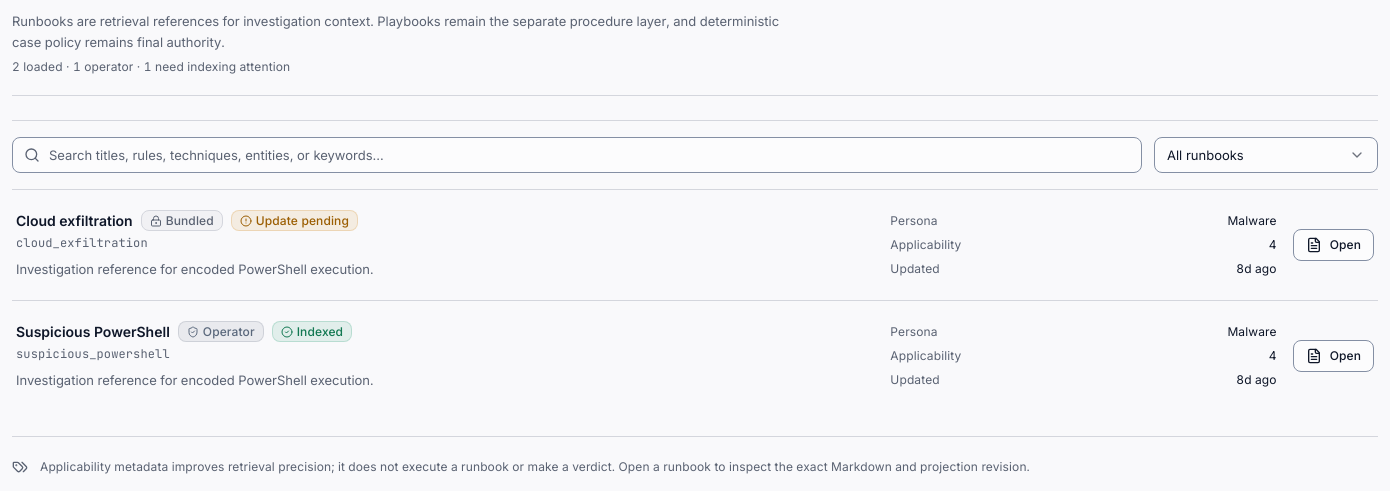
Test: Intelligence Runbooks management › supports search/index filtering and hides every mutation without runbooks:manage
Expected: the text "Cloud exfiltration" is shown, [16,212,133,229]
Type "cloud" into the field named "search runbooks" at [577, 155], box [12,137,1142,173]
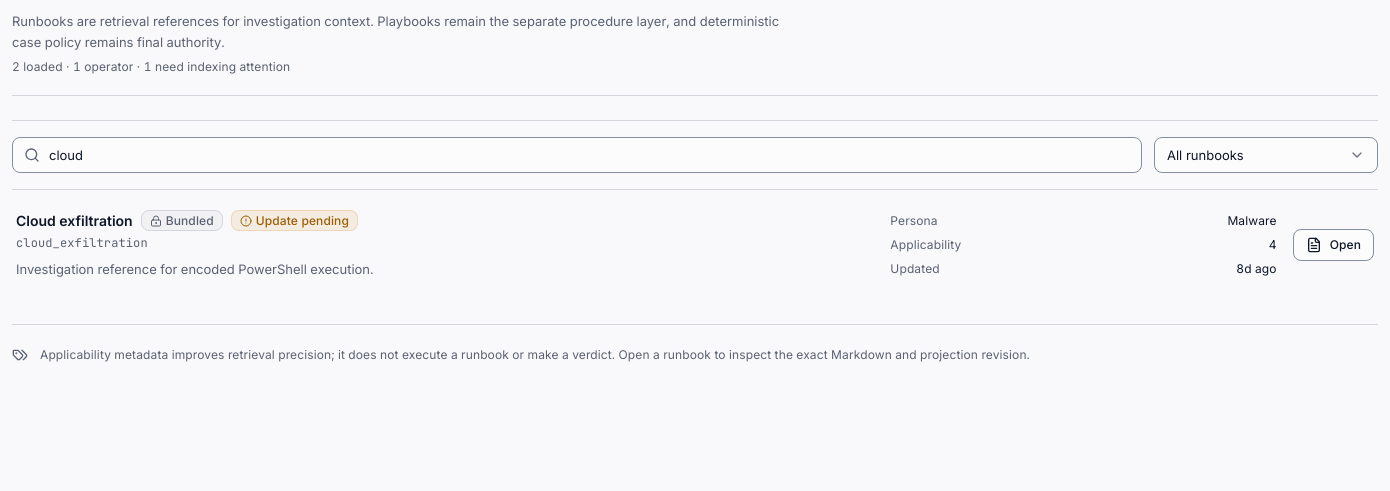
Expected: the text "Cloud exfiltration" is shown, [16,212,133,229]
Now the button "Suspicious PowerShell" is gone
